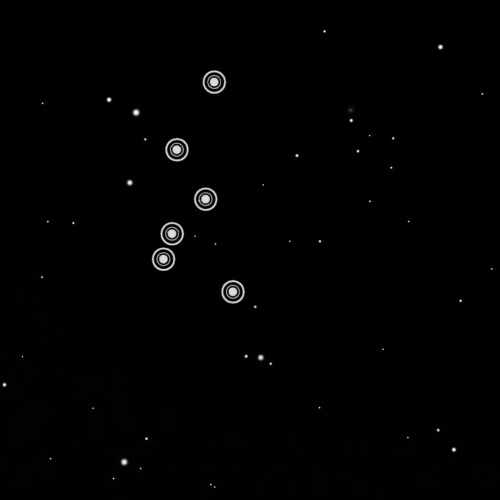cassiopeia: (147, 66, 253, 309)
